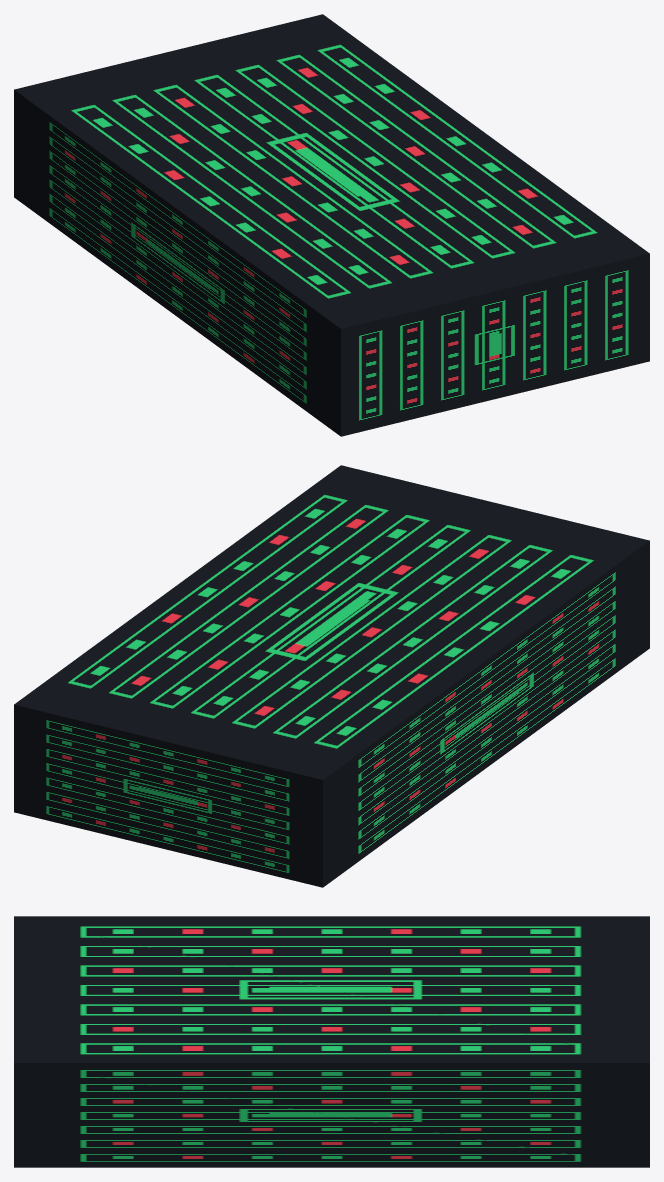
The model's file is rustchain_server_rack.obj.
The picture shows the model from 3 angles, top to bottom: view 1: azimuth 30°, elevation 25°; view 2: azimuth 150°, elevation 25°; view 3: azimuth 270°, elevation 25°; orthographic projection. The views are drawn at different scales.
Visible parts, largest first — view 1: rustchain_server_rack; view 2: rustchain_server_rack; view 3: rustchain_server_rack.
Boxes of the visible parts, left/top/right/bottom form: rustchain_server_rack: left=14, top=14, right=649, bottom=436; rustchain_server_rack: left=14, top=465, right=649, bottom=887; rustchain_server_rack: left=14, top=916, right=649, bottom=1167.
Bounding box in the file's own units: 1.2 × 0.455 × 2.2.
Materials: 2 (2 with a texture image).
